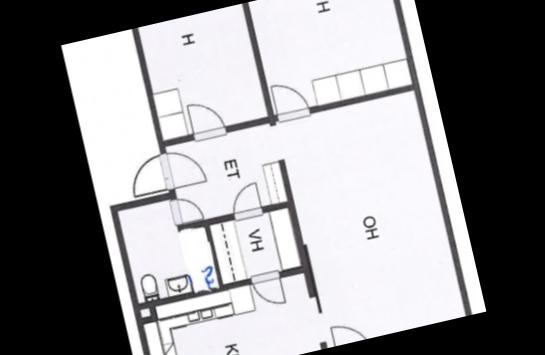door: (158, 142, 208, 192), (124, 152, 174, 200), (266, 75, 312, 125), (184, 94, 228, 141), (224, 178, 266, 223), (246, 266, 287, 310), (324, 316, 370, 346), (168, 191, 202, 227)
